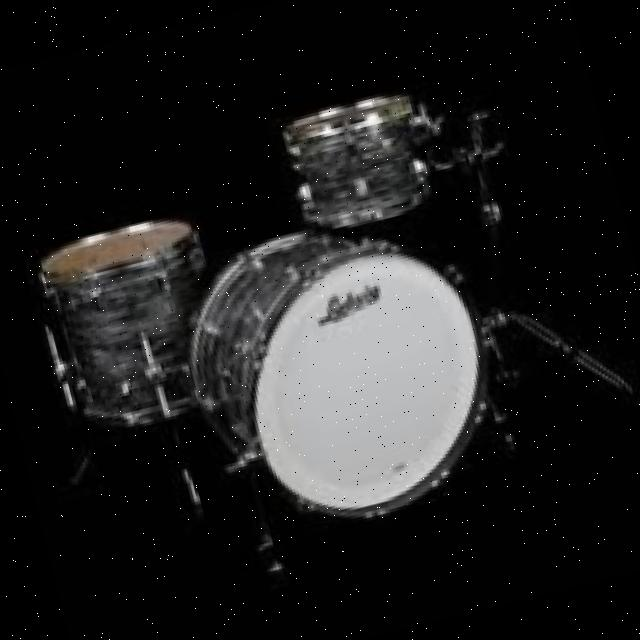drums: (3, 51, 640, 598)
